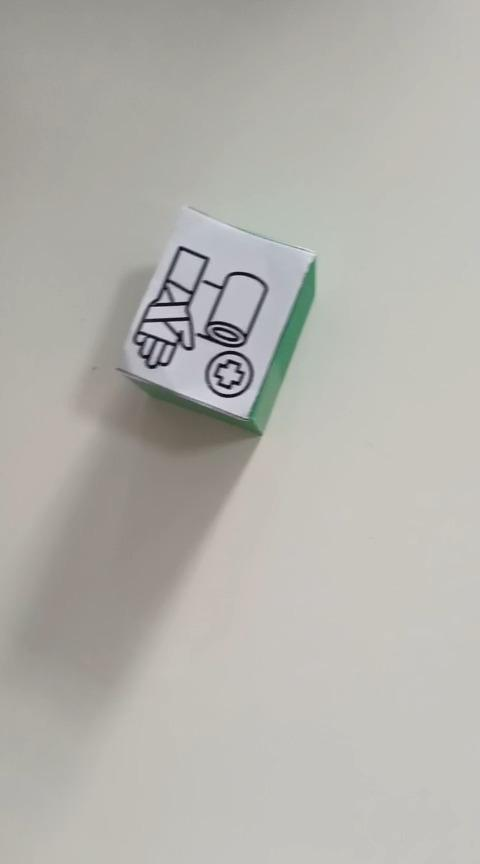Bandages: (115, 204, 317, 436)
